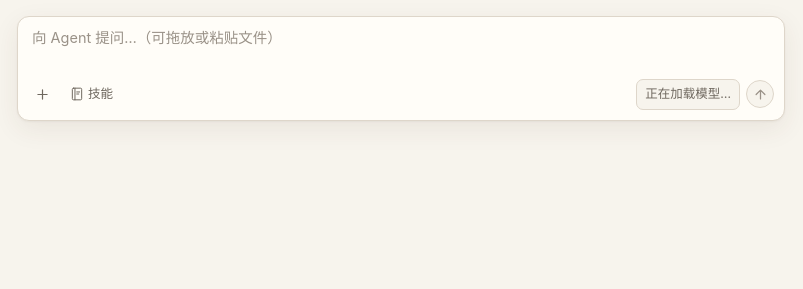
Test case: Composer / skills popup › filters as you type
Type "/" into the text box with placeholder "向 Agent 提问…（可拖放或粘贴文件）" at (401, 47), box [18,27,784,67]
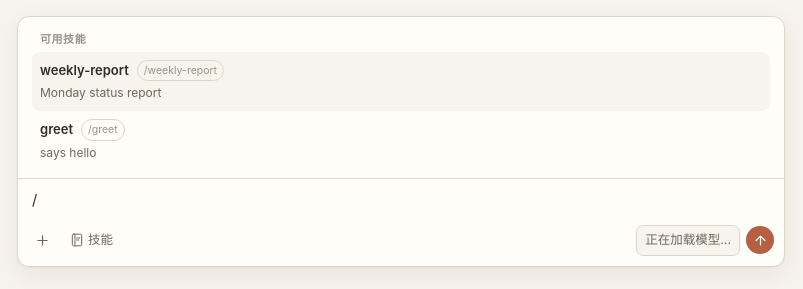
Check: the text "/weekly-report" is shown, box [137,60,224,81]
Replace the text in the text box with placeholder "向 Agent 提问…（可拖放或粘贴文件）" with "/wee" at (401, 201), box [18,189,784,213]
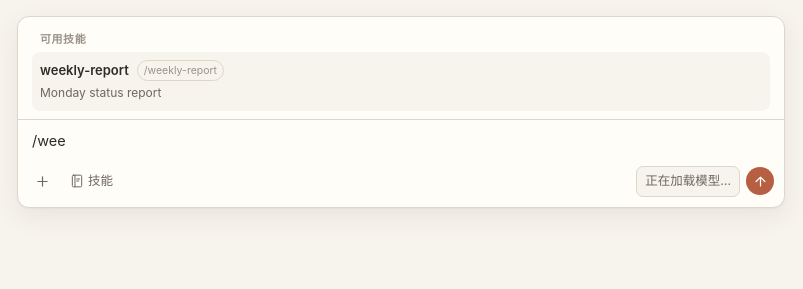
Check: the text "/weekly-report" is shown, box [137,60,224,81]
Check: the option "/greet" is gone
